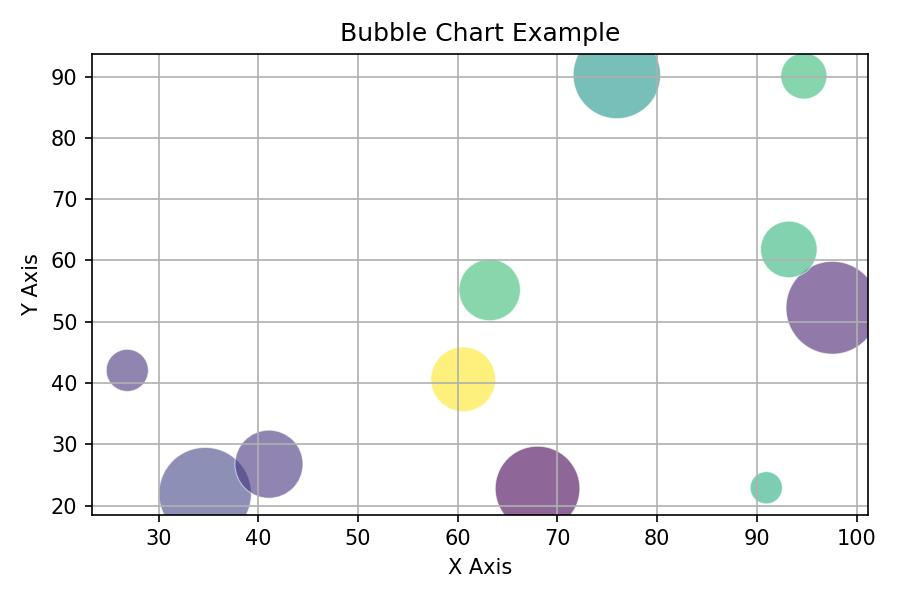axis: (74, 506, 887, 555), (49, 44, 104, 542)
circle: (786, 263, 867, 353), (161, 448, 252, 515), (494, 445, 581, 514), (573, 54, 660, 117), (238, 428, 304, 499), (433, 345, 497, 413), (459, 261, 522, 322), (761, 219, 818, 279), (780, 55, 829, 97), (107, 350, 150, 390), (750, 470, 783, 504)
